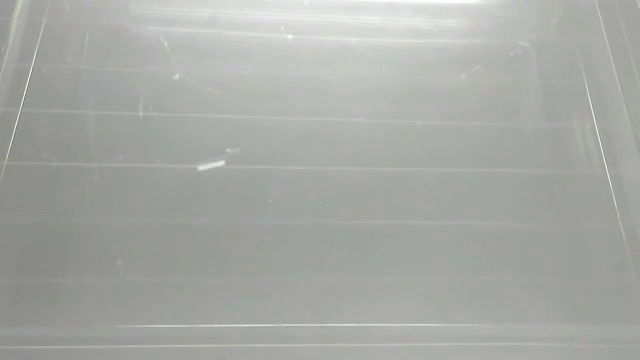alpha: (192, 156, 231, 174)
